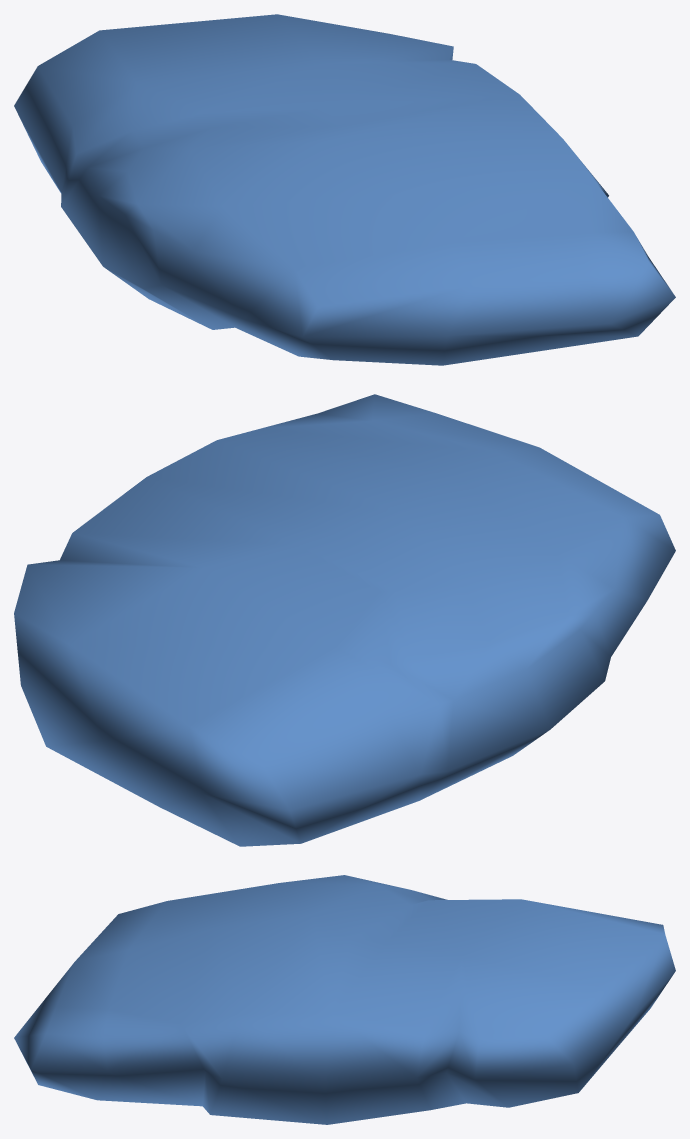
Rendered from Rock_02.fbx.
3 views of the same model, one above another, from view 1: azimuth 30°, elevation 25°; view 2: azimuth 150°, elevation 25°; view 3: azimuth 270°, elevation 25° (orthographic). The views are drawn at different scales.
Visible parts, largest first — view 1: Rock_02; view 2: Rock_02; view 3: Rock_02.
Boxes of the visible parts, x1,y1,x2,y2 form: Rock_02: [14, 14, 675, 365]; Rock_02: [14, 394, 675, 846]; Rock_02: [14, 875, 675, 1124].
Size of the model in its own units: 262 by 98.79 by 413.
